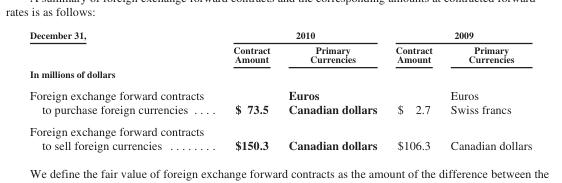table: (29, 29, 531, 152)
table column: (29, 29, 217, 152), (278, 29, 385, 152), (440, 29, 531, 152), (217, 29, 278, 152), (385, 29, 440, 152)
table column header: (29, 29, 531, 66)
table projected row header: (29, 66, 531, 83)
table row: (29, 119, 531, 152), (29, 42, 531, 66), (29, 83, 531, 101), (29, 101, 531, 119), (29, 66, 531, 83), (29, 29, 531, 42)
table spanning cell: (29, 29, 217, 66), (217, 29, 385, 42), (385, 29, 531, 42)
